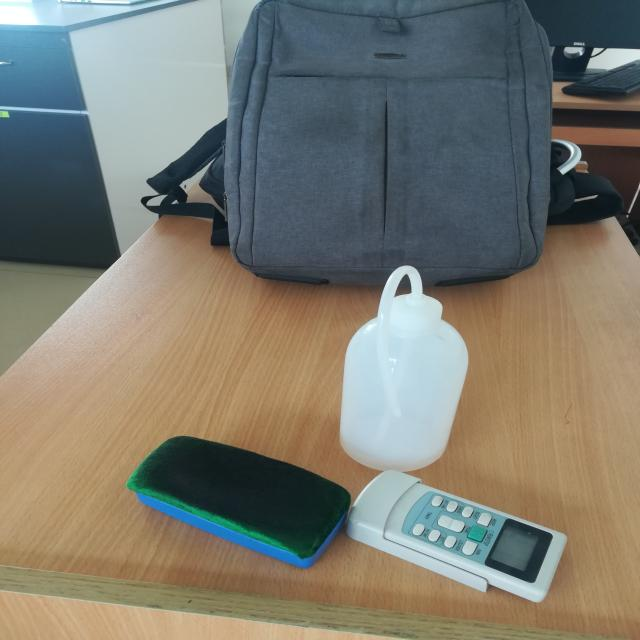Wash_Bottle: (308, 221, 511, 484)
